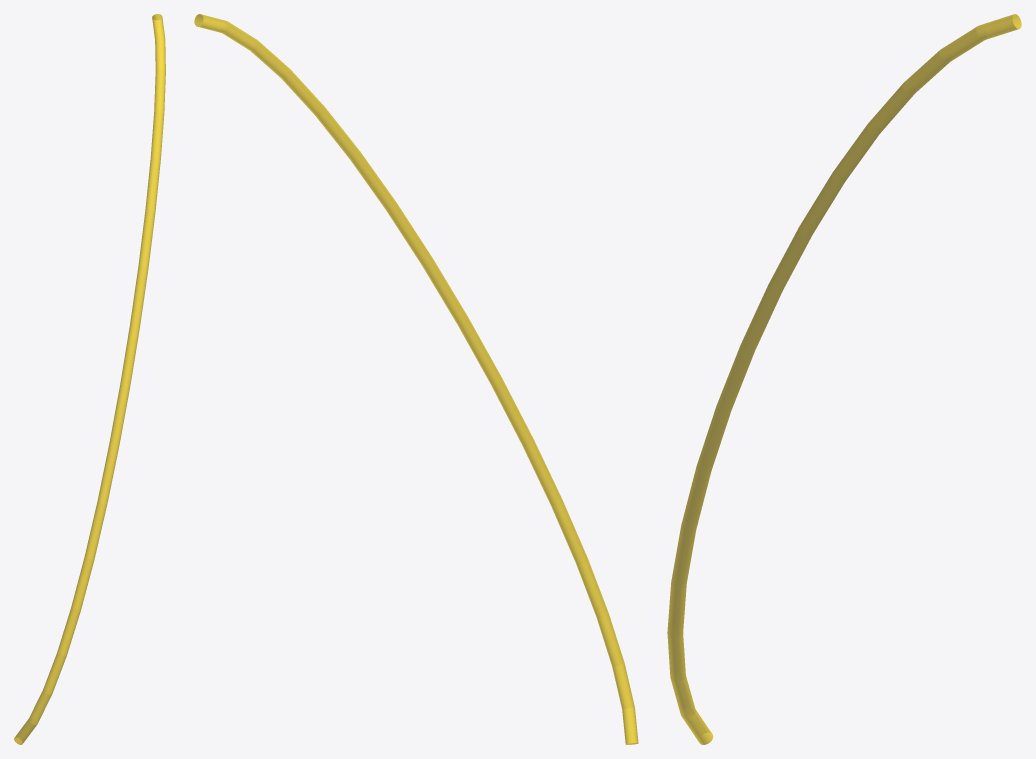
The model's file is Event_75125125_track_49.fbx.
The picture shows the model from 3 angles, left to right: view 1: azimuth 30°, elevation 25°; view 2: azimuth 150°, elevation 25°; view 3: azimuth 270°, elevation 25°; orthographic projection. The views are drawn at different scales.
Visible parts, largest first — view 1: Model; view 2: Model; view 3: Model.
Boxes of the visible parts, x1,y1,x2,y2 form: Model: (14, 14, 165, 744); Model: (194, 14, 638, 744); Model: (667, 14, 1021, 744).
Bounding box in the file's own units: 1.11 × 2.54 × 0.9006.
